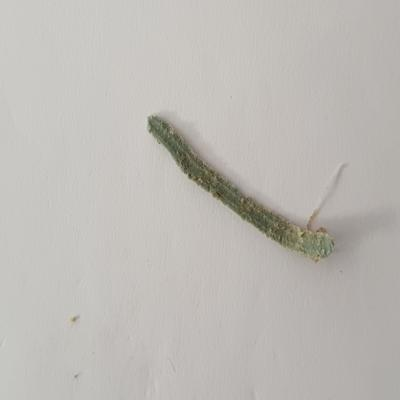plastic: (144, 108, 351, 267)
